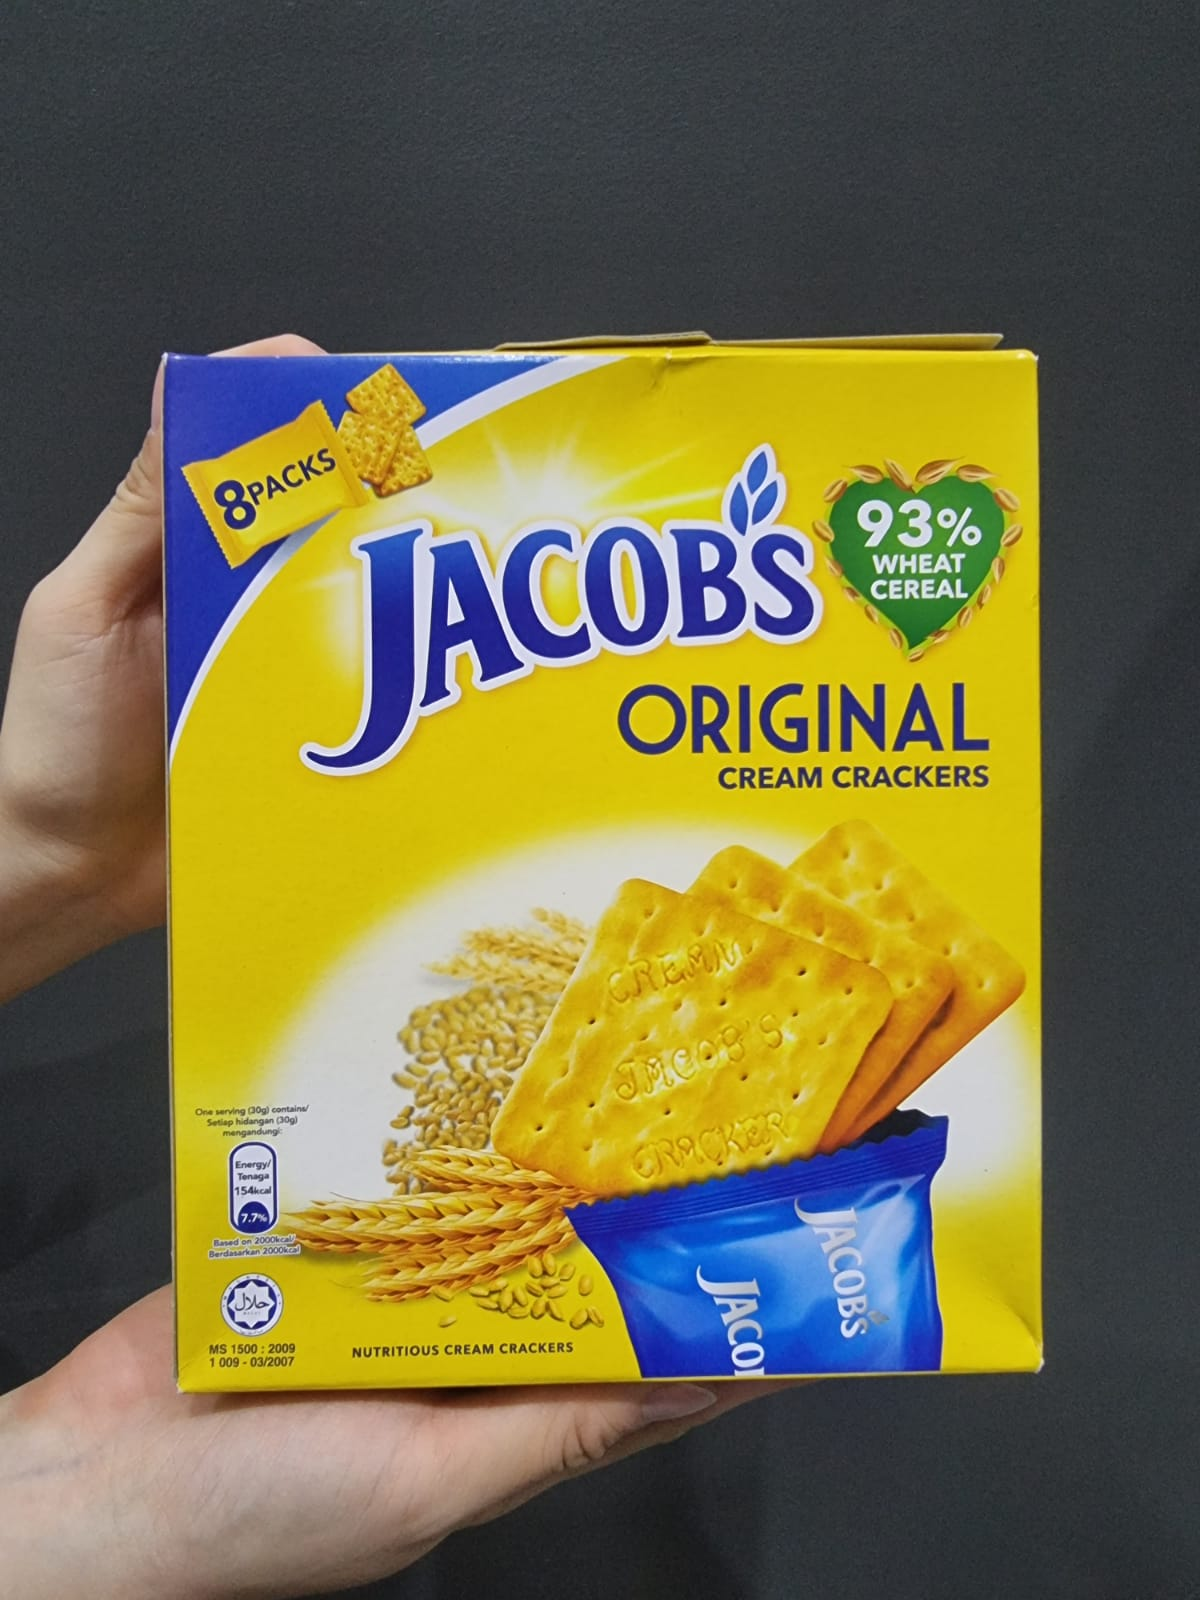Biscuits: (187, 367, 1018, 1363)
